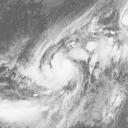cyclone: (26, 37, 77, 90)
